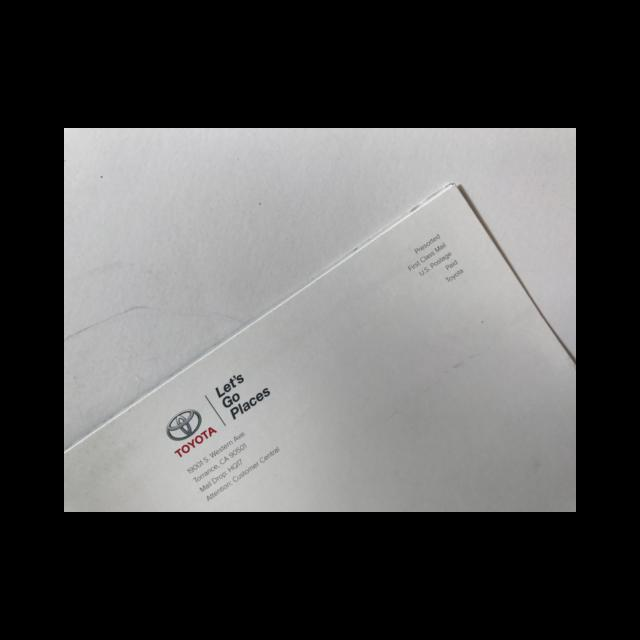paper: (64, 181, 575, 511)
